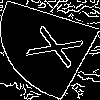X: (25, 24, 97, 74)
